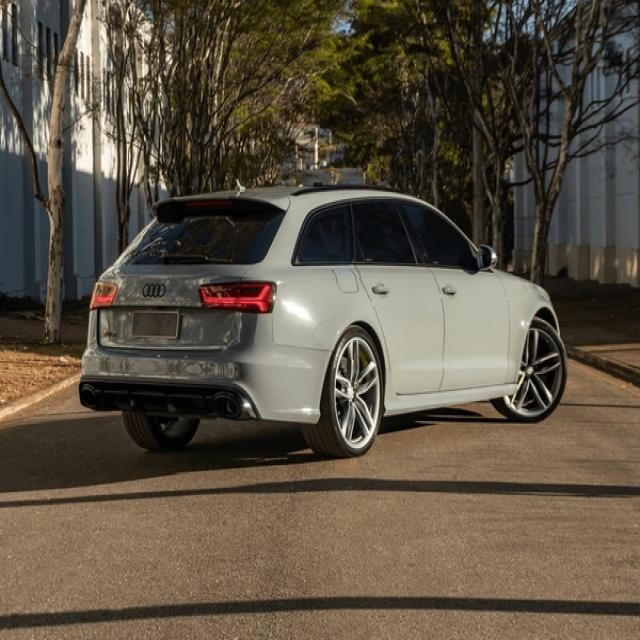audi: (139, 279, 171, 300)
